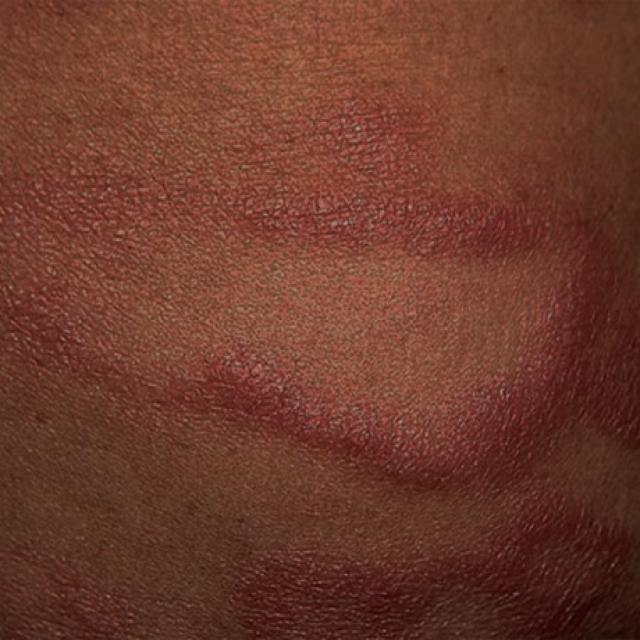Leprosy: (0, 151, 639, 638)
